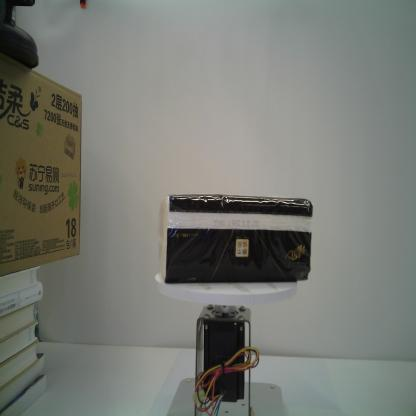Tissue: (158, 194, 313, 284)
